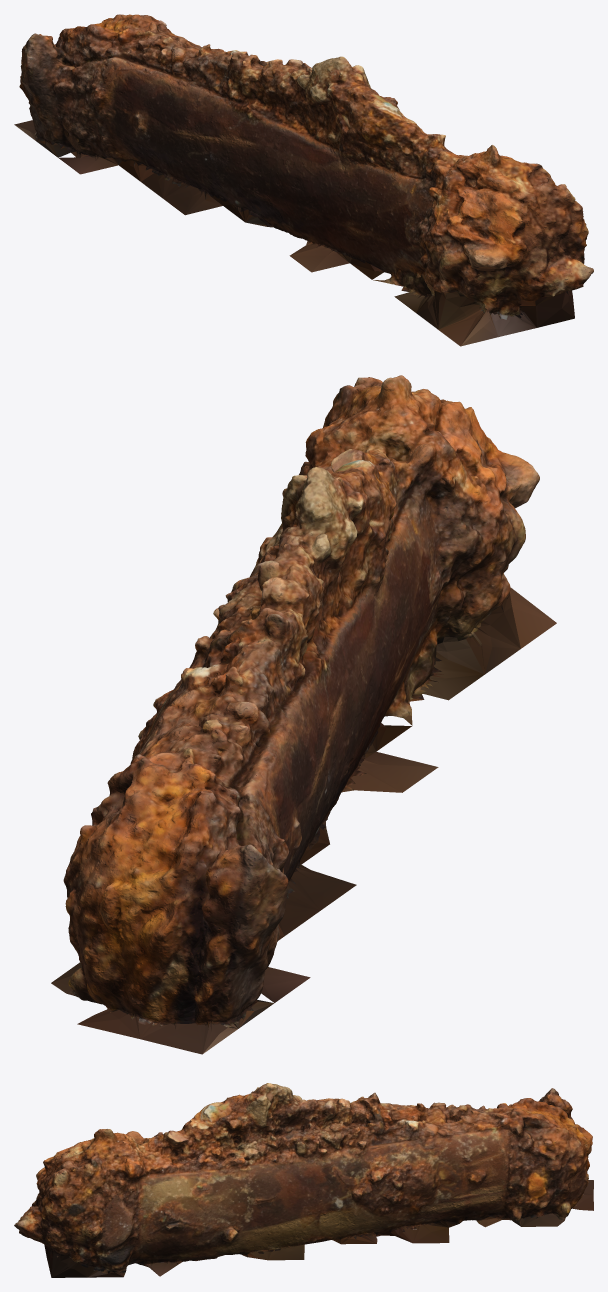
3 views of the same model, one above another, from view 1: azimuth 30°, elevation 25°; view 2: azimuth 150°, elevation 25°; view 3: azimuth 270°, elevation 25° (orthographic). The views are drawn at different scales.
Visible parts, largest first — view 1: model; view 2: model; view 3: model.
Boxes of the visible parts, x1,y1,x2,y2 form: model: [14, 14, 593, 346]; model: [51, 375, 556, 1054]; model: [14, 1083, 593, 1277].
Bounding box in the file's own units: 0.1345 × 0.0883 × 0.3.
1 material, 1 textured.
